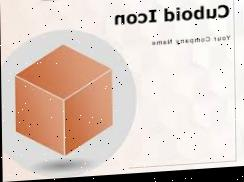cube: (13, 43, 115, 158)
